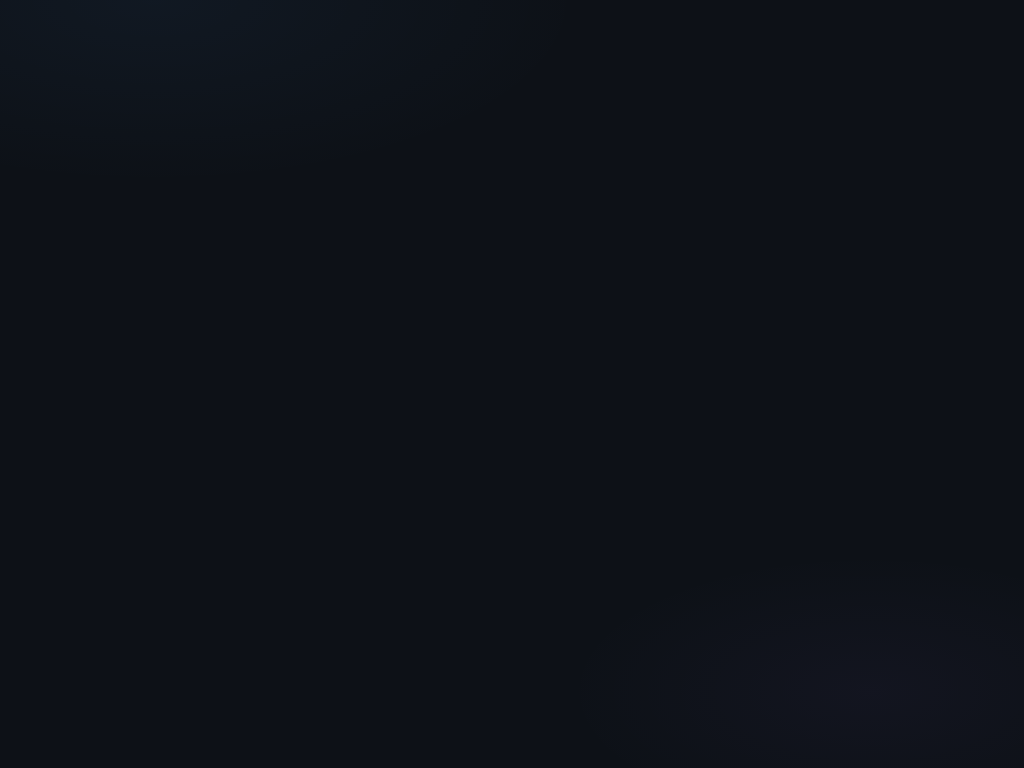
Test: CommandPalette › filters actions by query
Press k
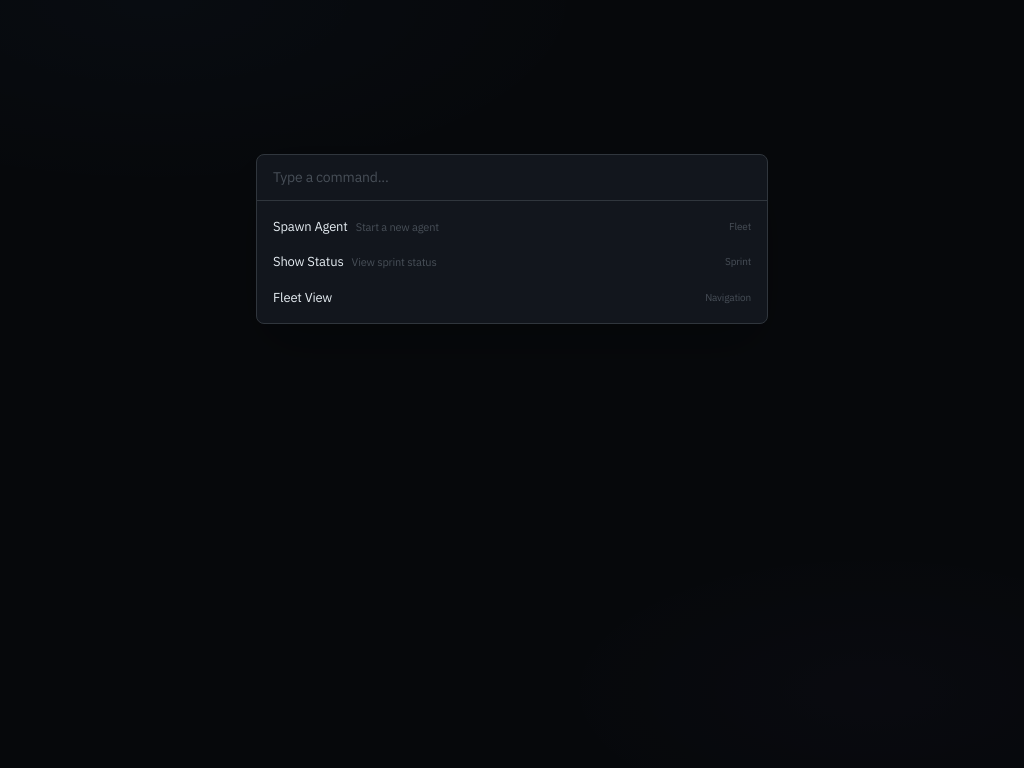
In the field with test id "palette-input": (512, 178) [257,155,767,201], type "spawn"
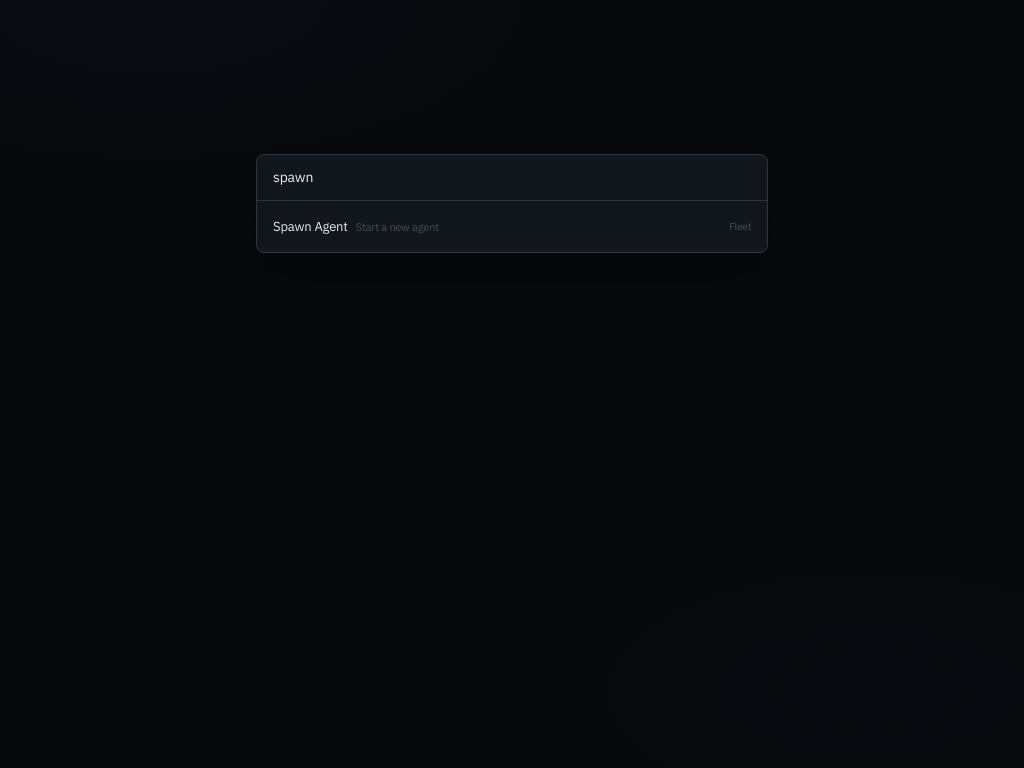
Expected: the button with test id "palette-action-spawn" is shown, [257,209,767,244]
Expected: the button with test id "palette-action-status" is gone
